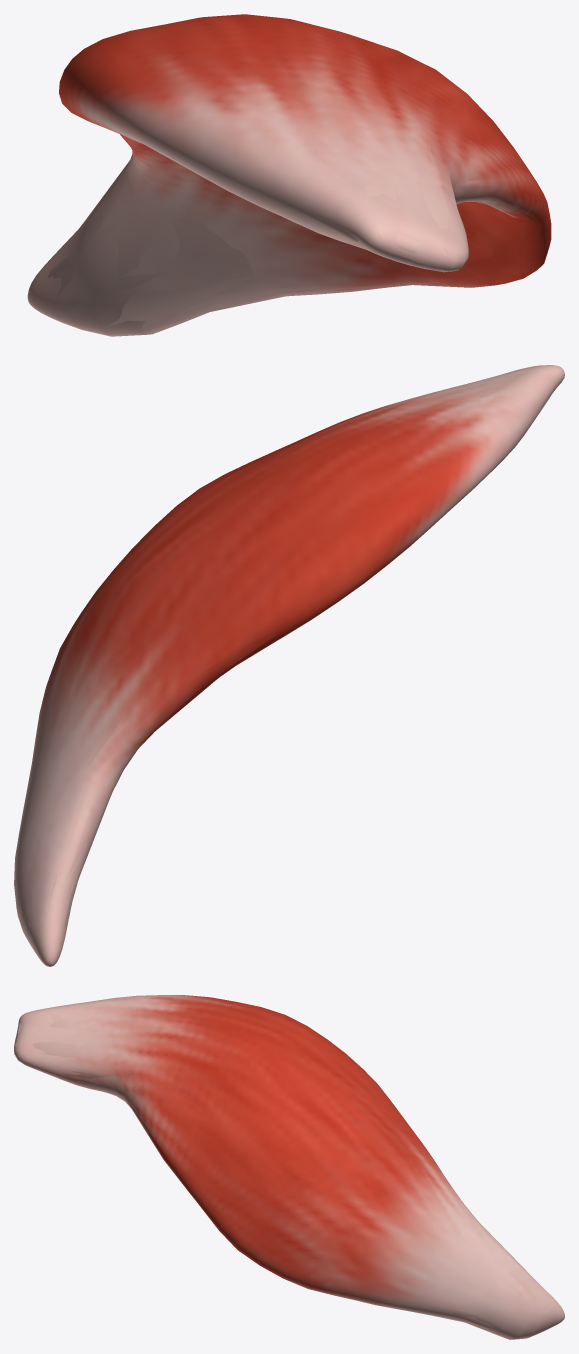
Rendered from L Gluteus Medius.fbx.
3 renders of one model, top to bottom at view 1: azimuth 30°, elevation 25°; view 2: azimuth 150°, elevation 25°; view 3: azimuth 270°, elevation 25°, orthographic. The views are drawn at different scales.
Visible parts, largest first — view 1: L Gluteus Medius, L Gluteus Medius low; view 2: L Gluteus Medius, L Gluteus Medius low; view 3: L Gluteus Medius, L Gluteus Medius low.
Boxes of the visible parts, box(x1,y1,x2,y2) form: L Gluteus Medius: box(27, 14, 551, 336); L Gluteus Medius low: box(42, 16, 550, 334); L Gluteus Medius: box(14, 365, 564, 966); L Gluteus Medius low: box(15, 369, 560, 955); L Gluteus Medius: box(14, 995, 564, 1339); L Gluteus Medius low: box(14, 999, 561, 1339).
Bounding box in the file's own units: 22.95 × 25.8 × 46.19.
